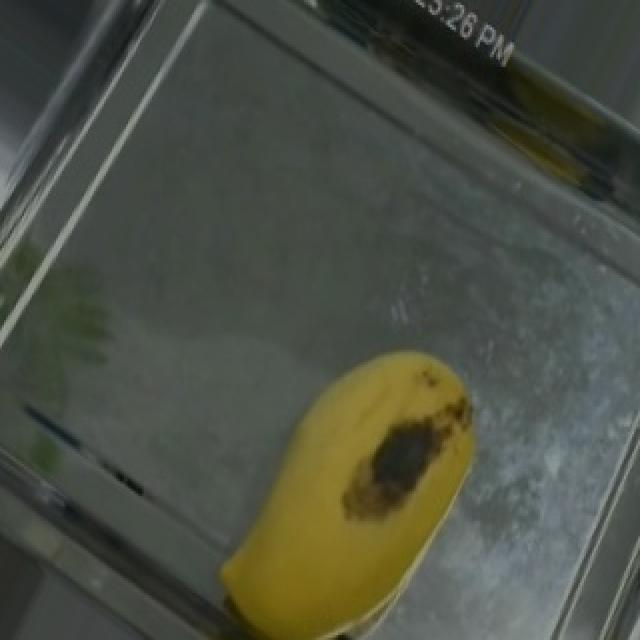fruit: (186, 295, 514, 640)
